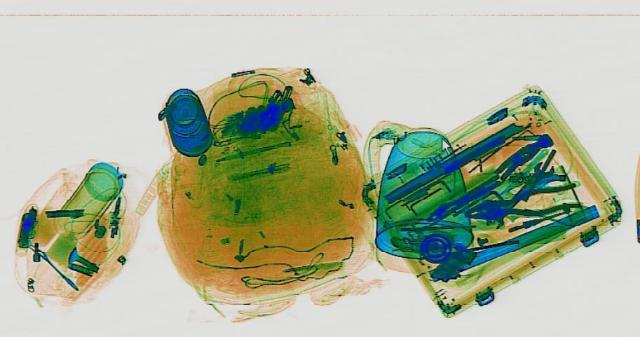Pliers: (454, 180, 590, 225)
Wrench: (476, 159, 562, 228)
